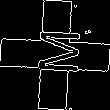M_W: (29, 31, 81, 79)
